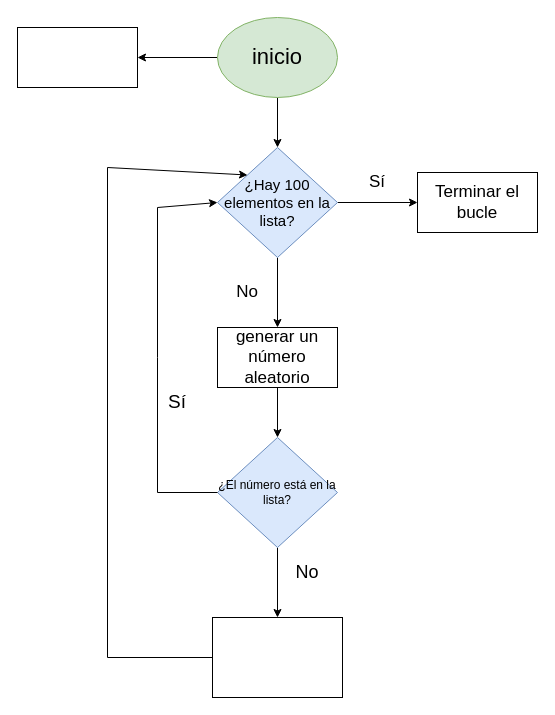
The diagram is 555 pixels wide and 715 high, and some of its shapes have lost their labels. Each missing label, with the centre of its shape:
"crear una lista vacía" belongs at [77,57].
"esperar un tiempo, mostrar el número y guardar en la lista" belongs at [277,657].
